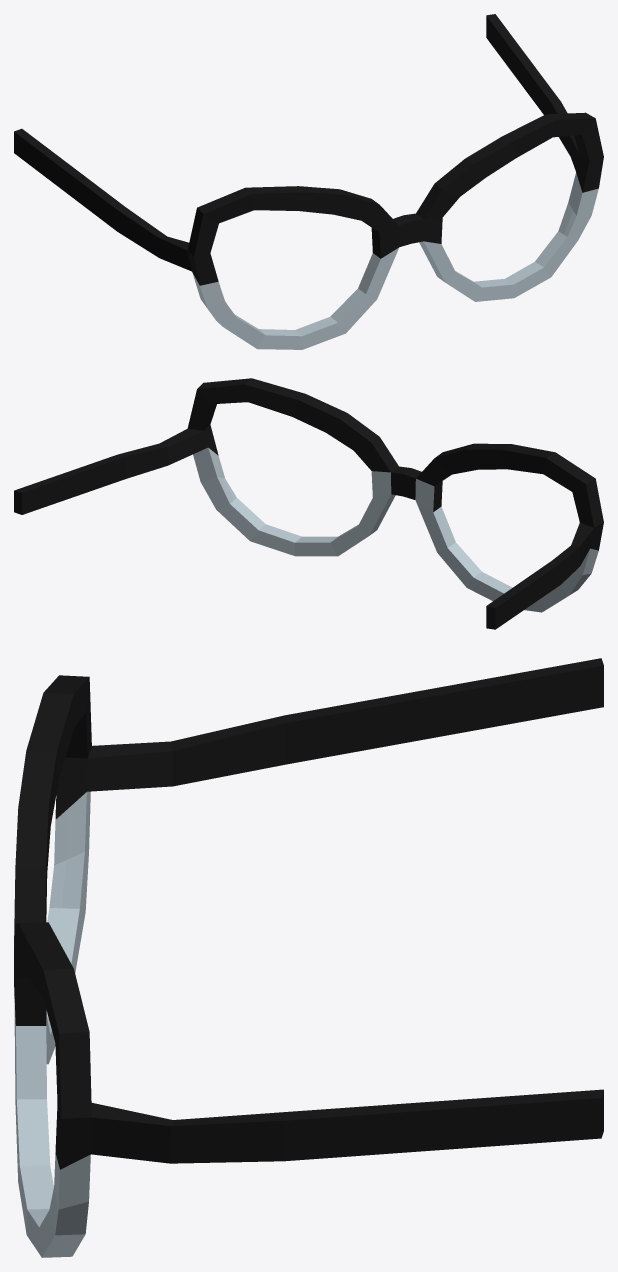
File: glassesRetro.gltf
3 renders of one model, top to bottom at view 1: azimuth 30°, elevation 25°; view 2: azimuth 150°, elevation 25°; view 3: azimuth 270°, elevation 25°, orthographic. The views are drawn at different scales.
Parts seen in each view (by area): view 1: glassesRetro; view 2: glassesRetro; view 3: glassesRetro.
Part boxes in pixels (bbox=[...]): glassesRetro: bbox=[14, 14, 603, 349]; glassesRetro: bbox=[14, 378, 603, 629]; glassesRetro: bbox=[14, 658, 603, 1257].
Bounding box in the file's own units: 0.8402 × 0.2732 × 0.4762.
